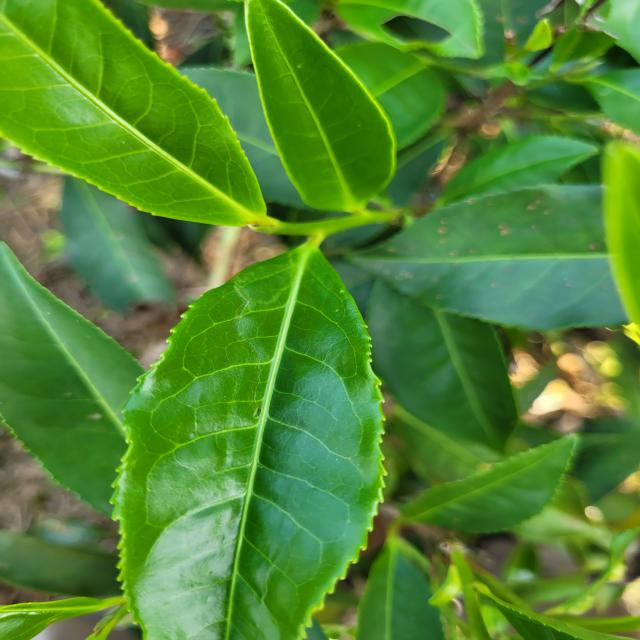Category B(2-4 days): (89, 200, 416, 640)
